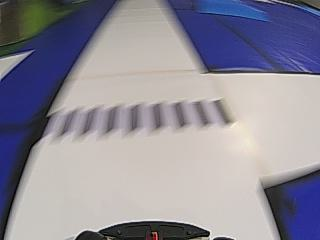CrossWalk: (33, 90, 245, 145)
